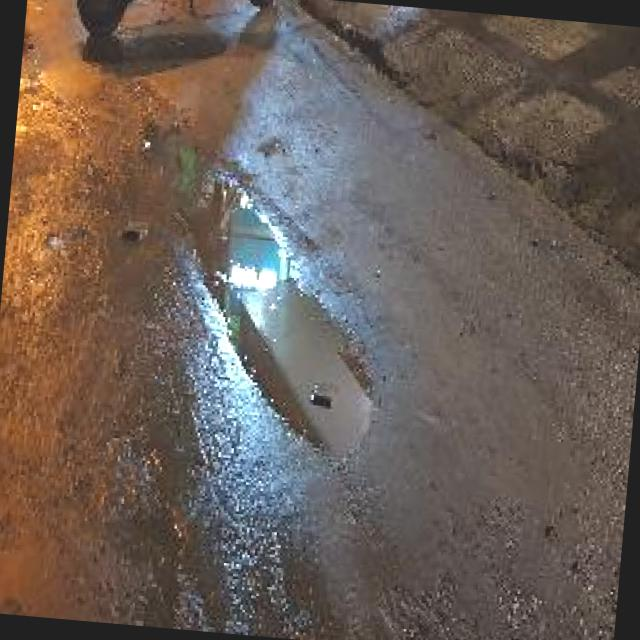stagnation: (150, 150, 401, 490)
